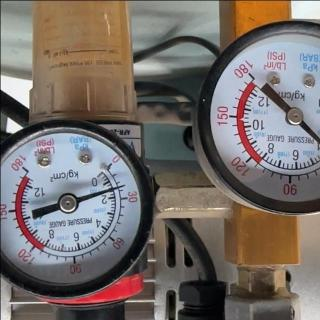gauge: (0, 115, 154, 309), (192, 1, 320, 221), (56, 192, 78, 215), (239, 65, 261, 87), (99, 153, 119, 174), (14, 159, 34, 179), (286, 106, 304, 126), (116, 182, 126, 190)
